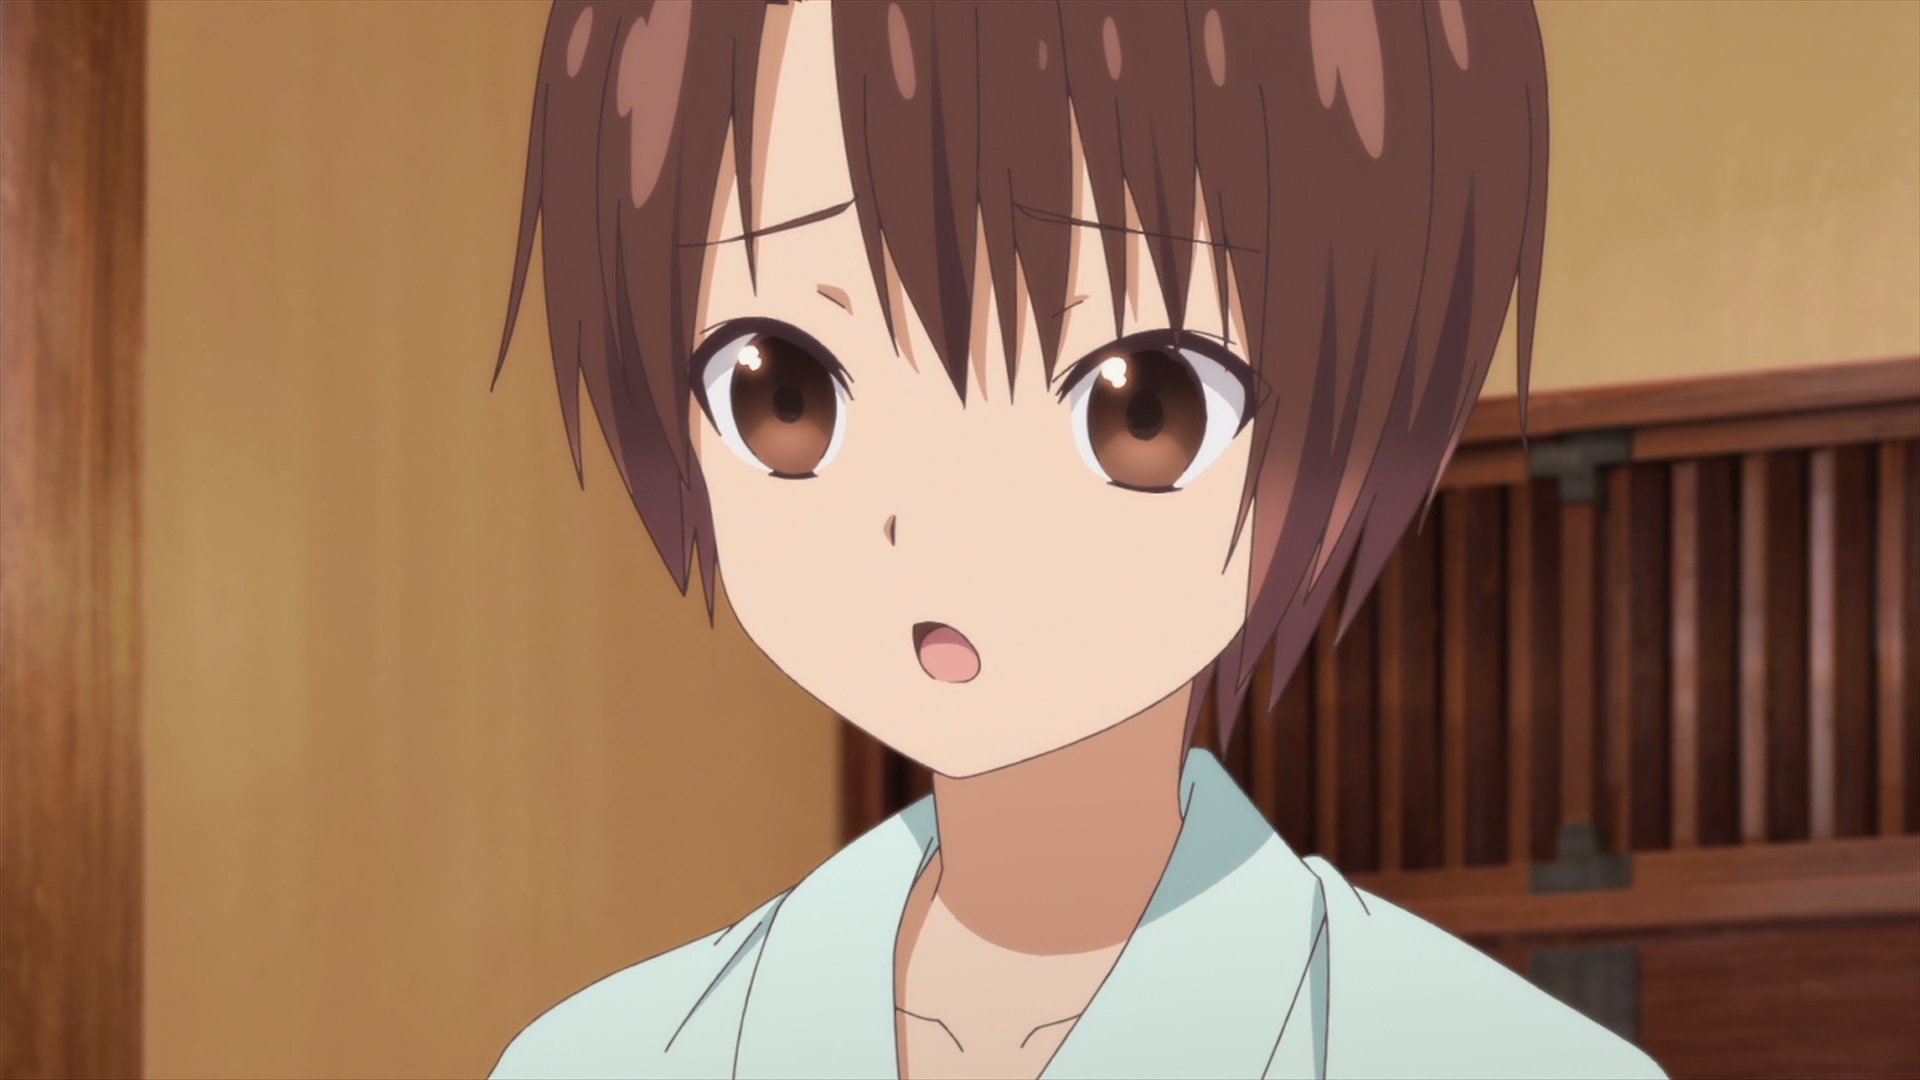枣: (488, 1, 1673, 1080)
